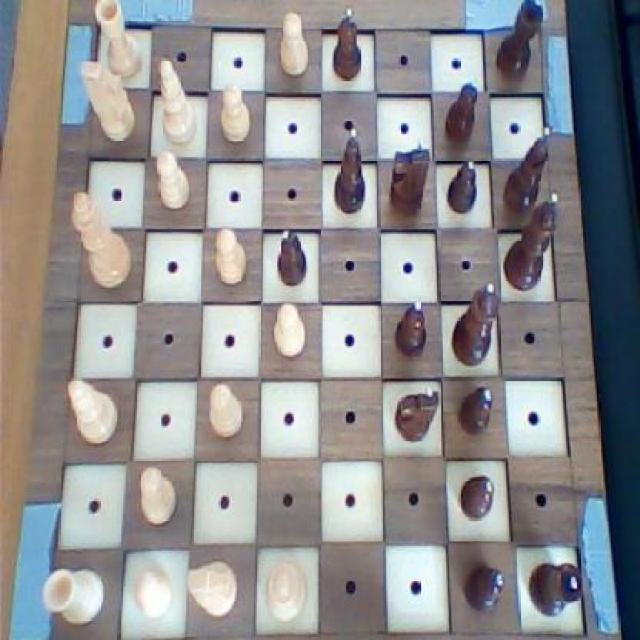bishop: (501, 125, 557, 218), (329, 126, 369, 217)
black-bishop: (503, 191, 563, 291)
black-king: (388, 131, 429, 216), (392, 386, 440, 447)
black-knight: (331, 5, 365, 84), (442, 77, 481, 145), (457, 382, 497, 442), (272, 225, 308, 290), (462, 561, 506, 614), (394, 295, 429, 361), (446, 154, 482, 213), (457, 469, 497, 522)
black-pawn: (449, 277, 500, 368)
black-queen: (490, 0, 544, 83), (526, 554, 585, 621)
black-rook: (64, 376, 124, 448), (156, 54, 198, 148)
white-bishop: (66, 188, 133, 290)
white-king: (78, 60, 138, 144), (186, 557, 243, 618)
white-knight: (274, 3, 311, 80), (137, 462, 178, 530), (215, 77, 254, 148), (128, 562, 174, 622), (154, 148, 194, 217), (211, 223, 251, 290), (269, 300, 307, 367), (207, 378, 246, 439)
white-pawn: (265, 556, 309, 622)
white-queen: (90, 0, 144, 82), (42, 564, 108, 624)
